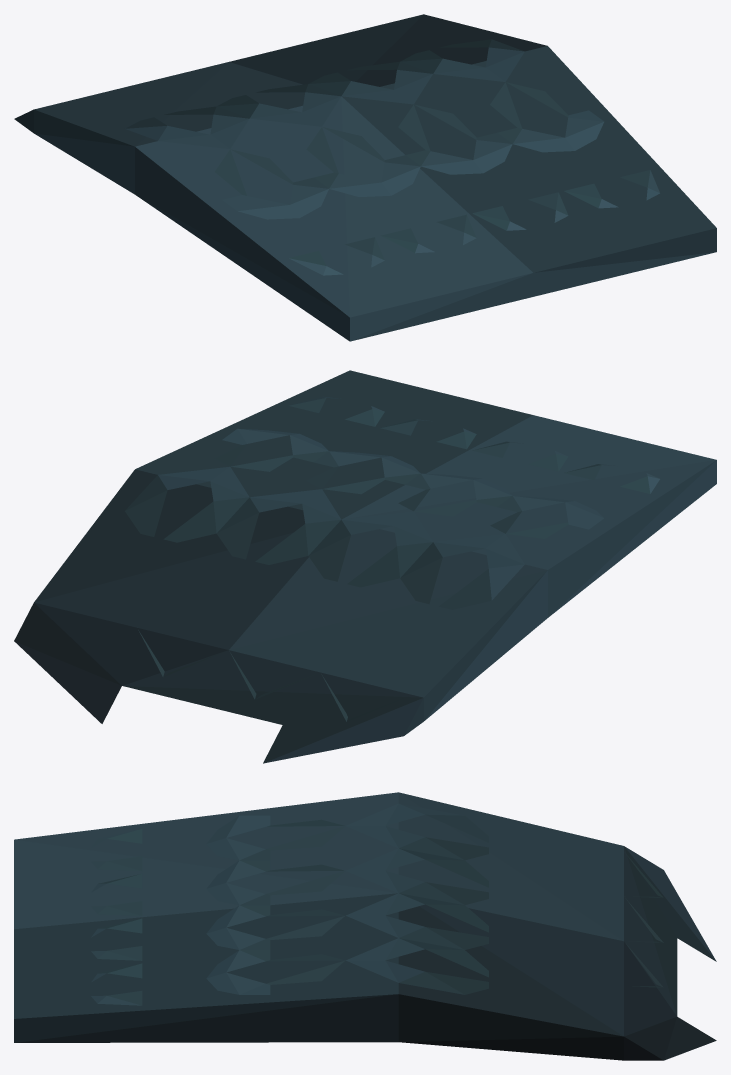
The model's file is runite-chainbody.obj.
The picture shows the model from 3 angles, top to bottom: view 1: azimuth 30°, elevation 25°; view 2: azimuth 150°, elevation 25°; view 3: azimuth 270°, elevation 25°; orthographic projection.
Visible parts, largest first — view 1: Item Rune chainbody 2026-09-24_18-19-33; view 2: Item Rune chainbody 2026-09-24_18-19-33; view 3: Item Rune chainbody 2026-09-24_18-19-33.
Boxes of the visible parts, box(x1,y1,x2,y2) form: Item Rune chainbody 2026-09-24_18-19-33: box(14, 14, 716, 341); Item Rune chainbody 2026-09-24_18-19-33: box(14, 370, 716, 763); Item Rune chainbody 2026-09-24_18-19-33: box(14, 792, 716, 1060).
Bounding box in the file's own units: 36 × 9 × 53.
